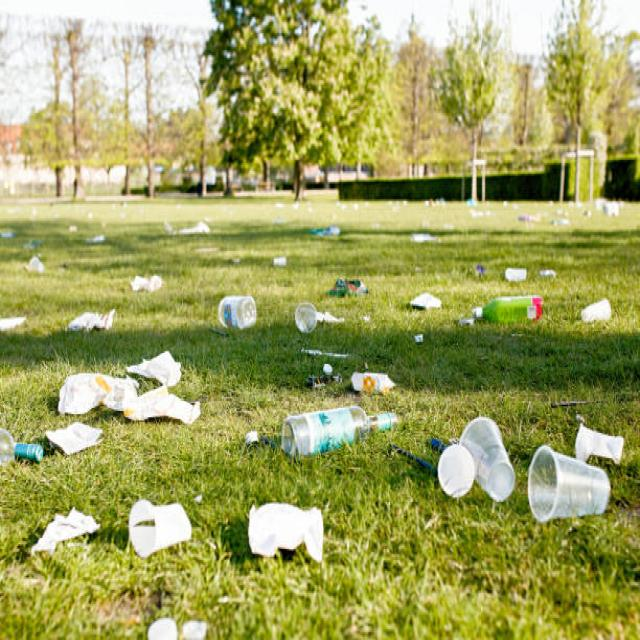glass: (279, 403, 387, 449)
plastic: (465, 422, 595, 527), (478, 295, 544, 323), (217, 295, 256, 331)
